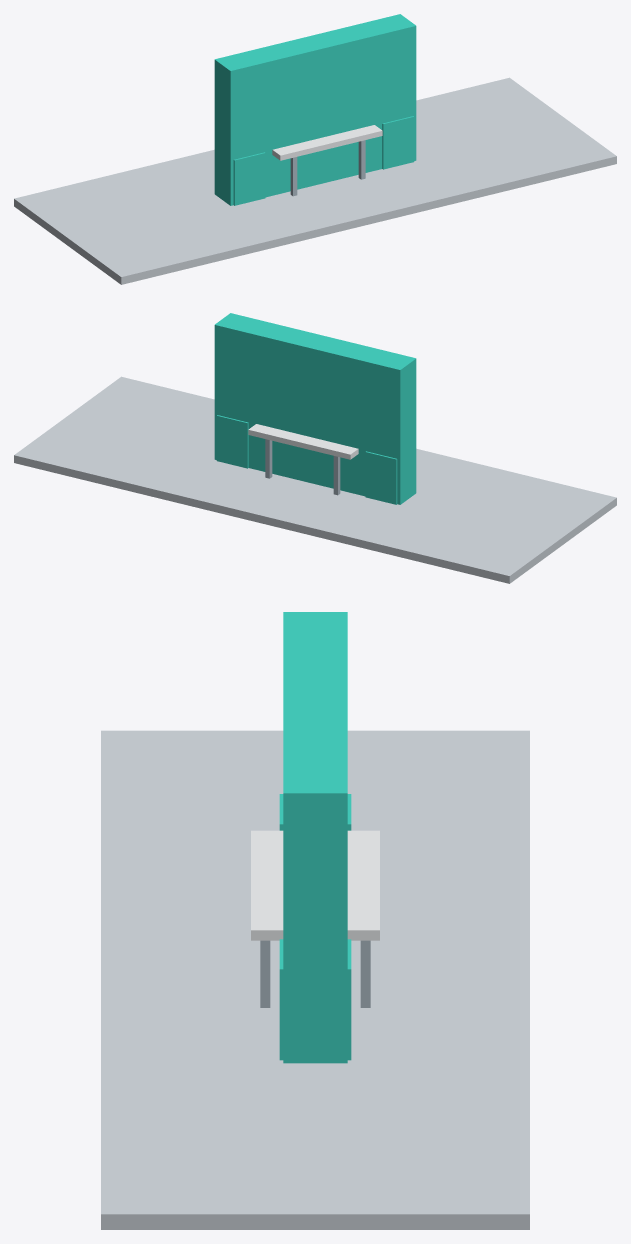
3 renders of one model, top to bottom at view 1: azimuth 30°, elevation 25°; view 2: azimuth 150°, elevation 25°; view 3: azimuth 270°, elevation 25°, orthographic. The views are drawn at different scales.
Visible parts, largest first — view 1: Exhibition Booth Concept; view 2: Exhibition Booth Concept; view 3: Exhibition Booth Concept.
Part boxes in pixels (left/top/right/bottom): Exhibition Booth Concept: left=14, top=14, right=616, bottom=284; Exhibition Booth Concept: left=14, top=313, right=616, bottom=583; Exhibition Booth Concept: left=101, top=612, right=529, bottom=1229.
Size of the model in its own units: 8 by 2.2 by 3.
